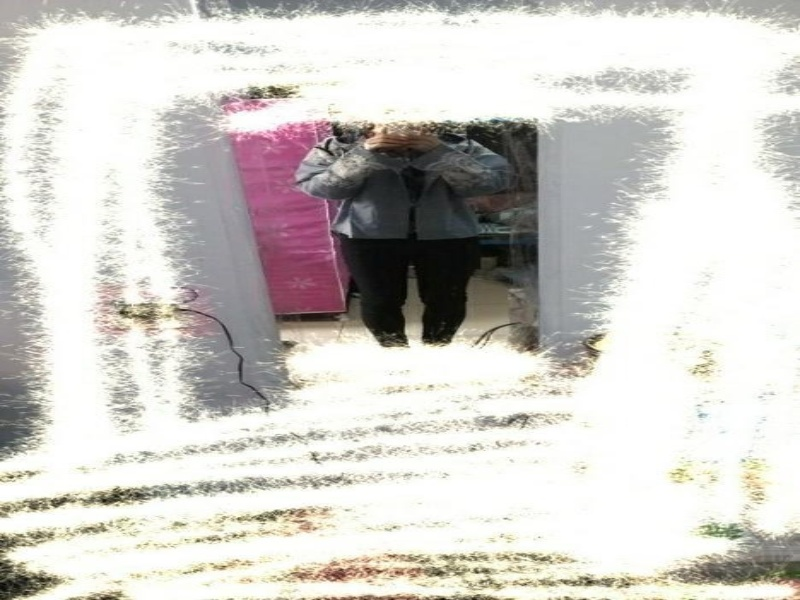long_sleeved_outwear: (294, 133, 515, 241)
trousers: (332, 226, 489, 348)
